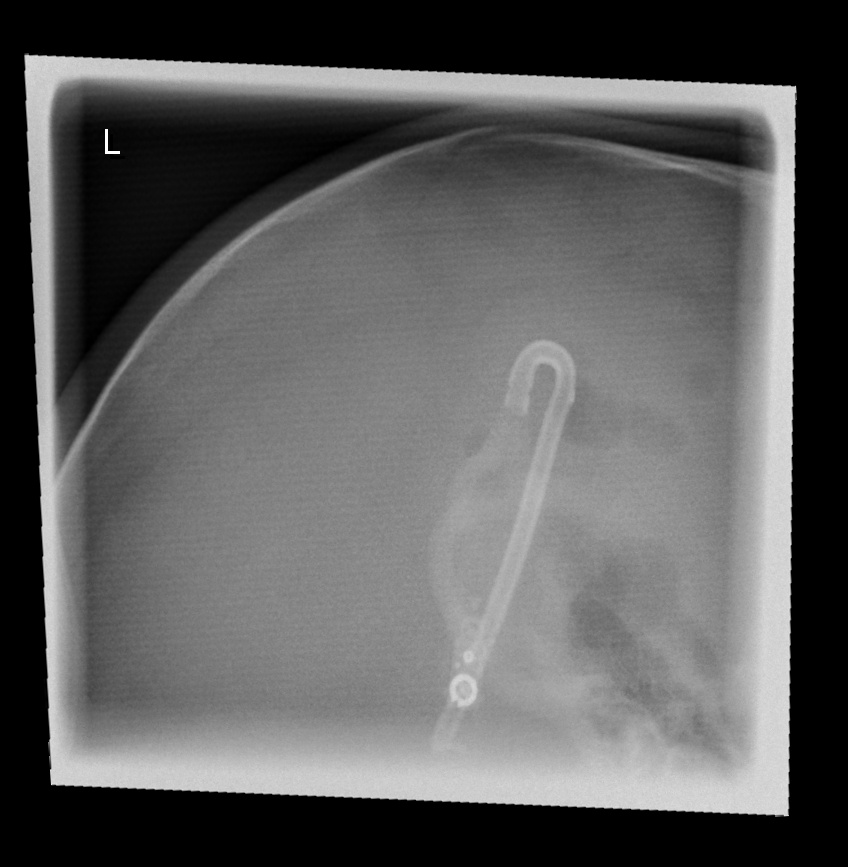Codman Hakim: (441, 637, 489, 716)
